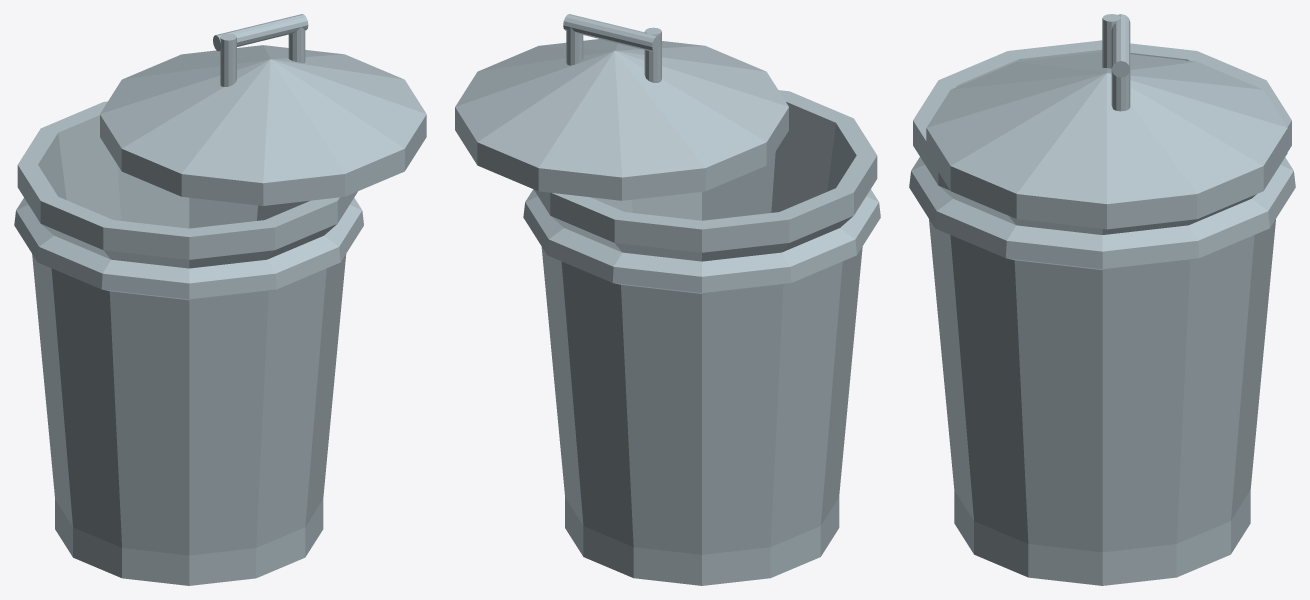
Rendered from trashcan.fbx.
3 views of the same model, side by side, from view 1: azimuth 30°, elevation 25°; view 2: azimuth 150°, elevation 25°; view 3: azimuth 270°, elevation 25° (orthographic). The views are drawn at different scales.
Parts seen in each view (by area): view 1: trashcan; view 2: trashcan; view 3: trashcan.
Boxes of the visible parts, x1,y1,x2,y2 form: trashcan: (14,14,426,585); trashcan: (455,14,880,585); trashcan: (909,14,1295,585).
Size of the model in its own units: 50.87 by 63 by 41.74.
